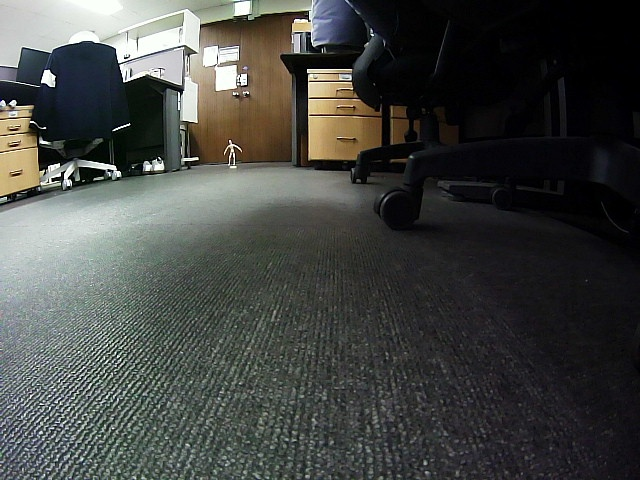person: (223, 140, 241, 166)
